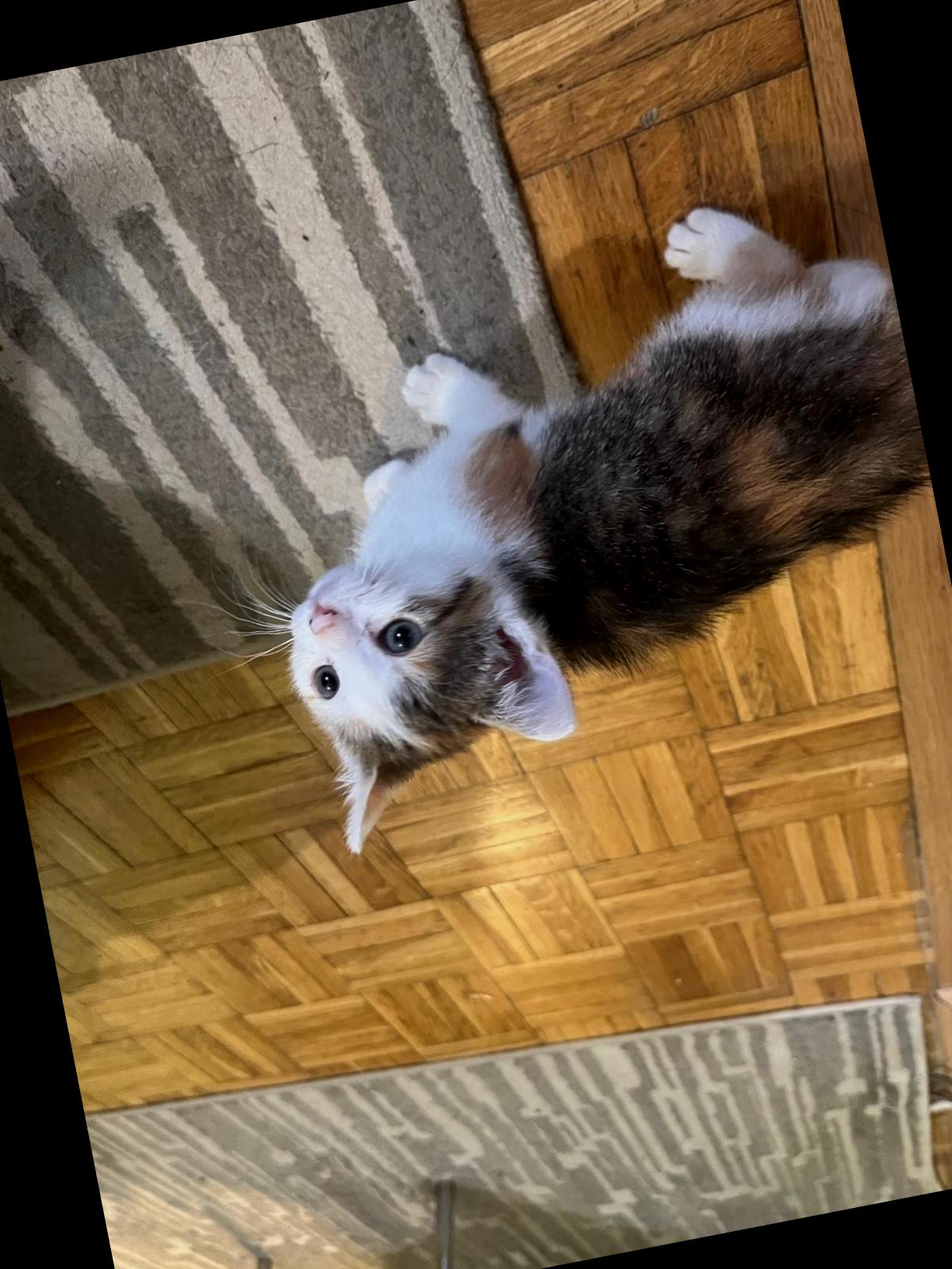macka: (215, 174, 952, 864)
